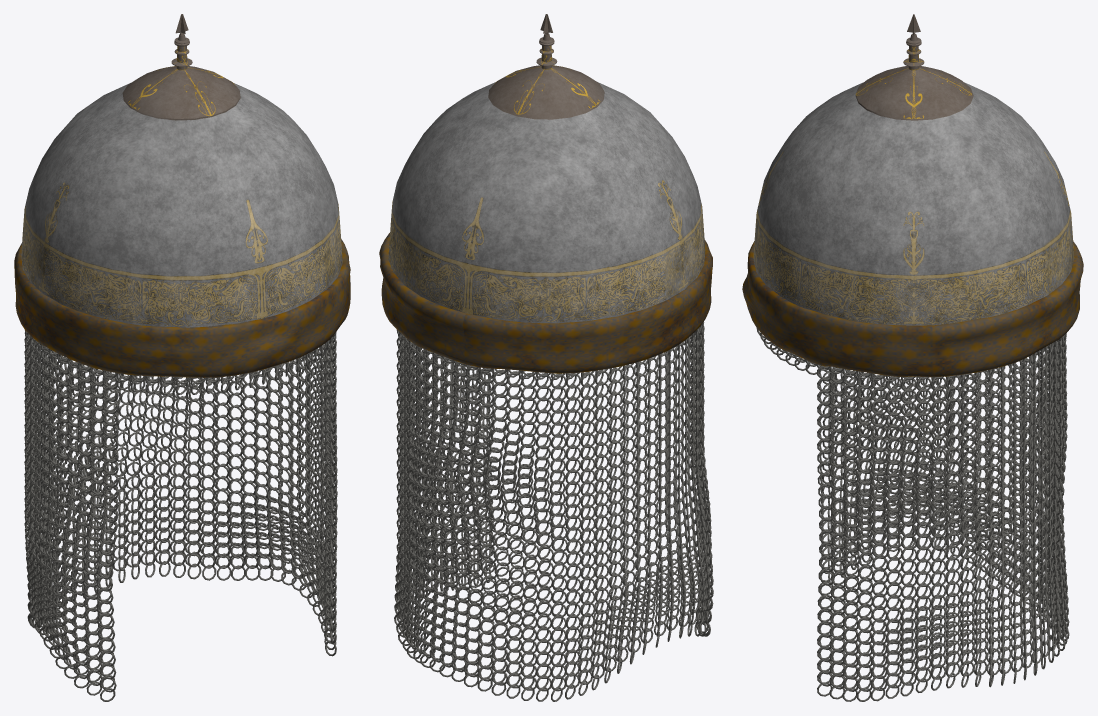
File: Mughal helmet.fbx
3 views of the same model, side by side, from view 1: azimuth 30°, elevation 25°; view 2: azimuth 150°, elevation 25°; view 3: azimuth 270°, elevation 25° (orthographic).
Visible parts, largest first — view 1: helmet, cloth; view 2: helmet, cloth; view 3: helmet, cloth.
Part boxes in pixels (x1,y1,x2,y2): helmet: [21, 14, 342, 327]; cloth: [14, 239, 350, 377]; helmet: [388, 14, 705, 323]; cloth: [379, 233, 712, 373]; helmet: [753, 14, 1074, 325]; cloth: [742, 241, 1083, 377].
Bounding box in the file's own units: 18.69 × 38.7 × 18.95.
Materials: 2 (2 with a texture image).
